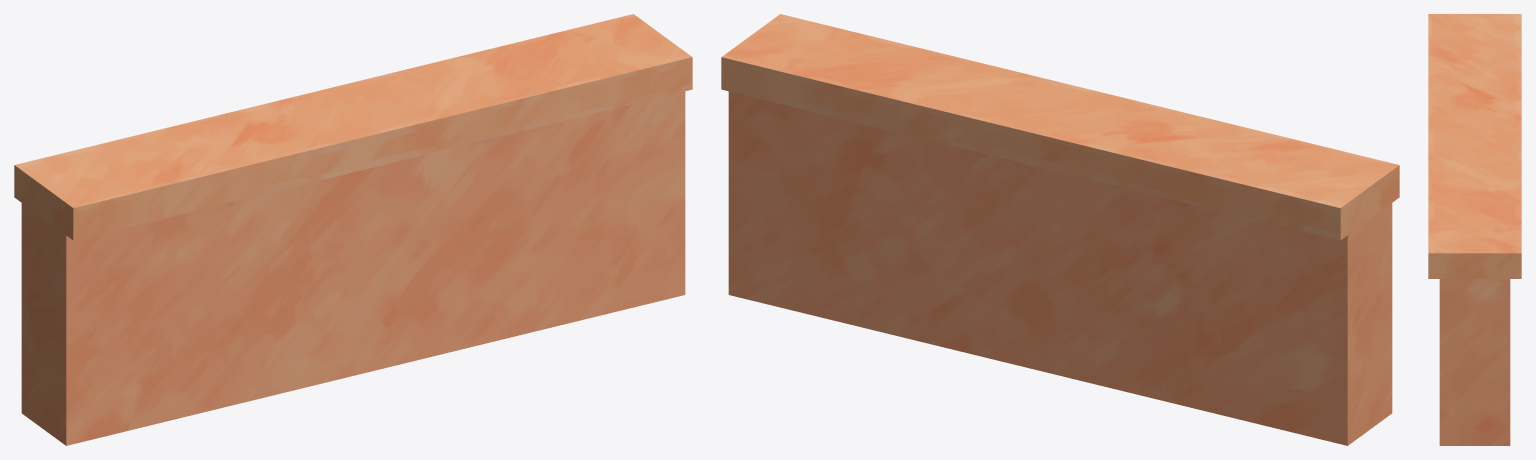
Rendered from parapet_plain.bundle.fbx.
3 views of the same model, side by side, from view 1: azimuth 30°, elevation 25°; view 2: azimuth 150°, elevation 25°; view 3: azimuth 270°, elevation 25° (orthographic). The views are drawn at different scales.
Parts seen in each view (by area): view 1: parapet_plain, parapet_plain_s00, parapet_plain_s01, parapet_plain_s03, parapet_plain_s04, parapet_plain_s02; view 2: parapet_plain, parapet_plain_s00, parapet_plain_s01, parapet_plain_s04, parapet_plain_s03, parapet_plain_s02; view 3: parapet_plain, parapet_plain_s01, parapet_plain_s00, parapet_plain_s03, parapet_plain_s02, parapet_plain_s04.
Part boxes in pixels (left/top/right/bottom): parapet_plain: left=14, top=14, right=692, bottom=445; parapet_plain_s00: left=313, top=41, right=567, bottom=360; parapet_plain_s01: left=15, top=102, right=318, bottom=415; parapet_plain_s03: left=528, top=14, right=692, bottom=242; parapet_plain_s04: left=22, top=92, right=394, bottom=445; parapet_plain_s02: left=528, top=224, right=685, bottom=332; parapet_plain: left=721, top=14, right=1399, bottom=445; parapet_plain_s00: left=822, top=48, right=1080, bottom=366; parapet_plain_s01: left=1085, top=105, right=1398, bottom=433; parapet_plain_s04: left=1037, top=87, right=1392, bottom=444; parapet_plain_s03: left=721, top=15, right=921, bottom=229; parapet_plain_s02: left=728, top=208, right=871, bottom=329; parapet_plain: left=1428, top=14, right=1521, bottom=445; parapet_plain_s01: left=1428, top=14, right=1521, bottom=112; parapet_plain_s00: left=1428, top=129, right=1521, bottom=212; parapet_plain_s03: left=1428, top=199, right=1521, bottom=387; parapet_plain_s02: left=1439, top=376, right=1510, bottom=445; parapet_plain_s04: left=1428, top=109, right=1521, bottom=133.
Bounding box in the file's own units: 8 × 3 × 1.32.
1 material, 1 textured.
